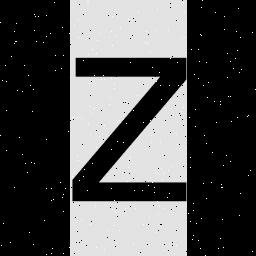z: (70, 55, 186, 207)
